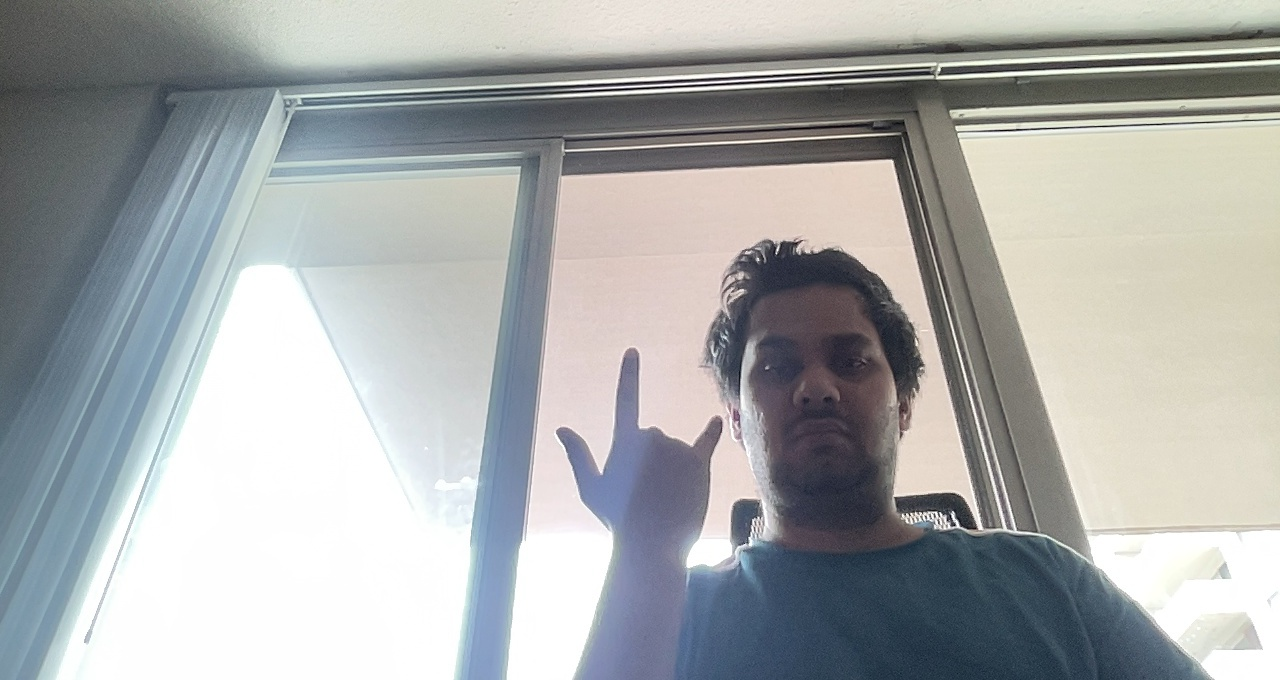rockon sign: (548, 345, 728, 567)
